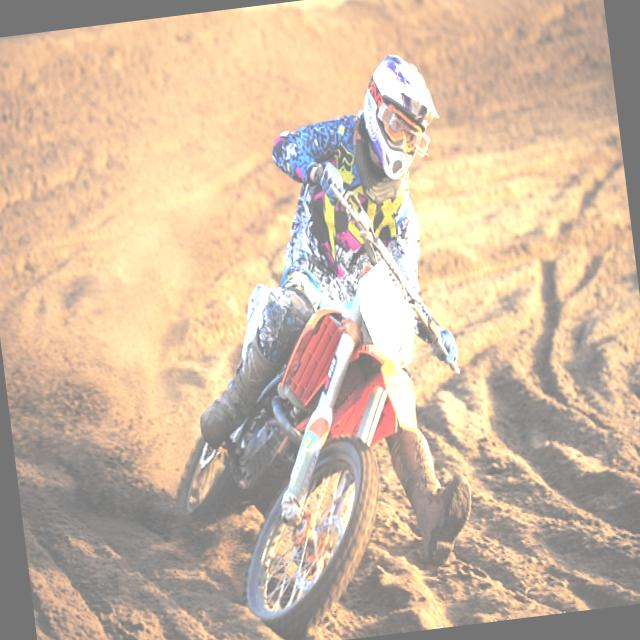Vehicle: (139, 177, 482, 640)
